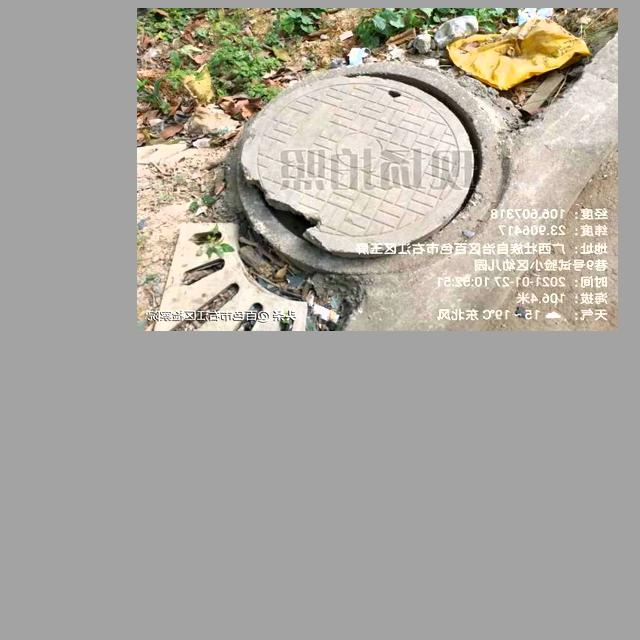broke: (215, 55, 522, 283)
